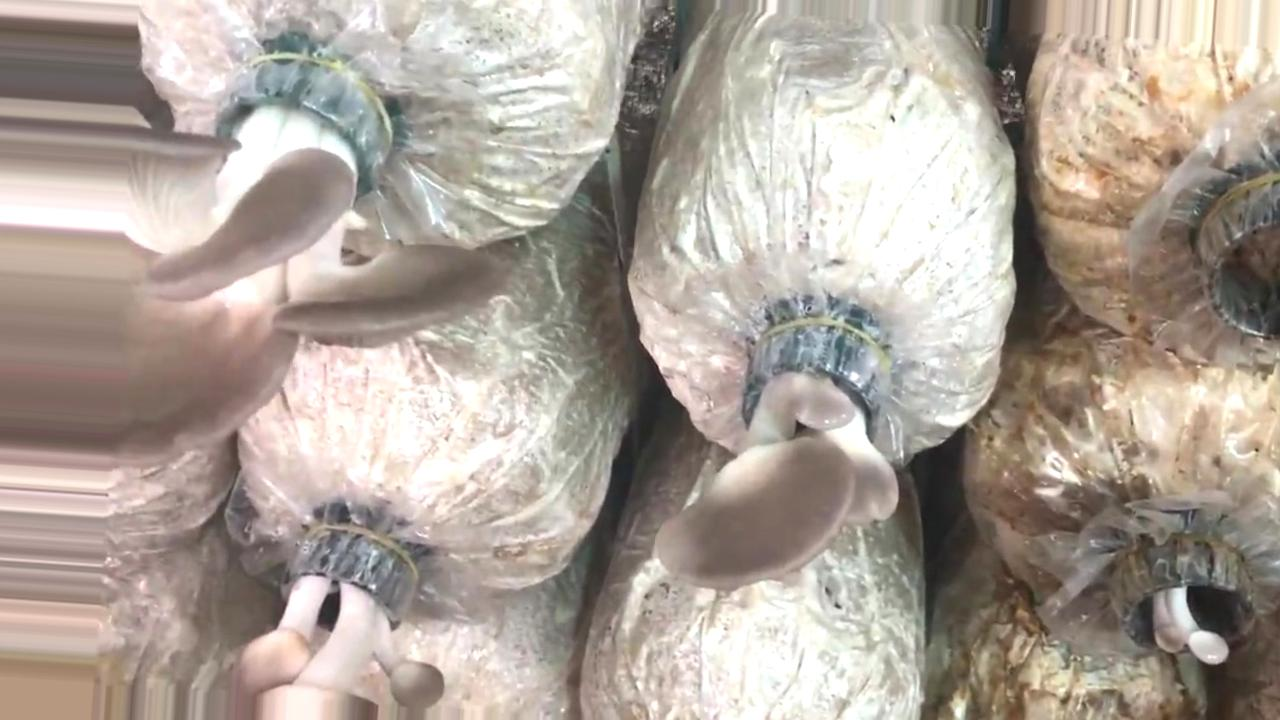nam: (1, 59, 516, 468), (656, 331, 900, 592), (228, 537, 445, 720), (1127, 546, 1245, 667)
